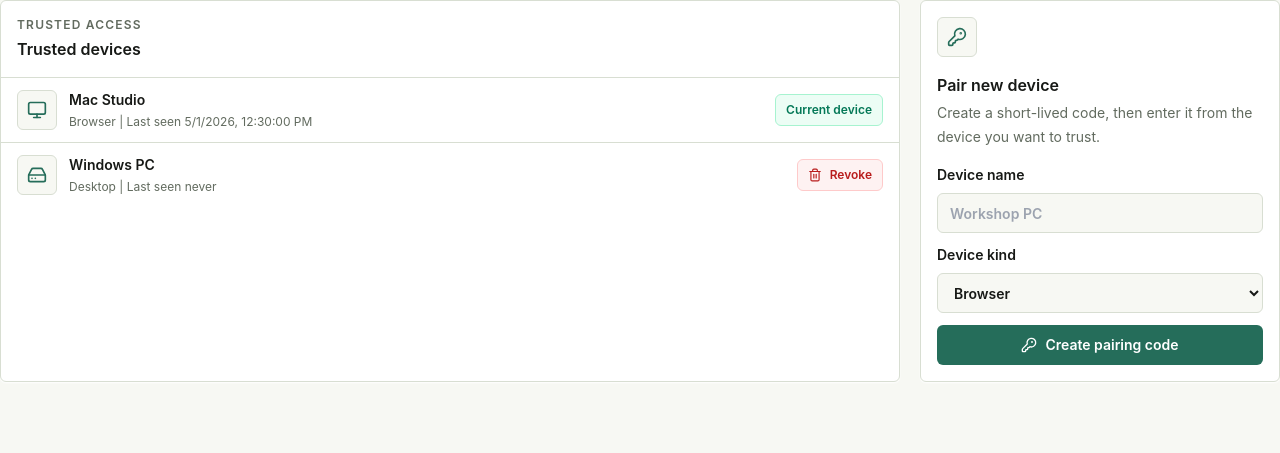
Test: DevicesWorkspace › revokes another trusted device and keeps the current device protected
expect the text "Current device" is shown: met, box [775,94,883,126]
Click the button with aria-label "Revoke Windows PC": x=840, y=175 [797,159,883,191]
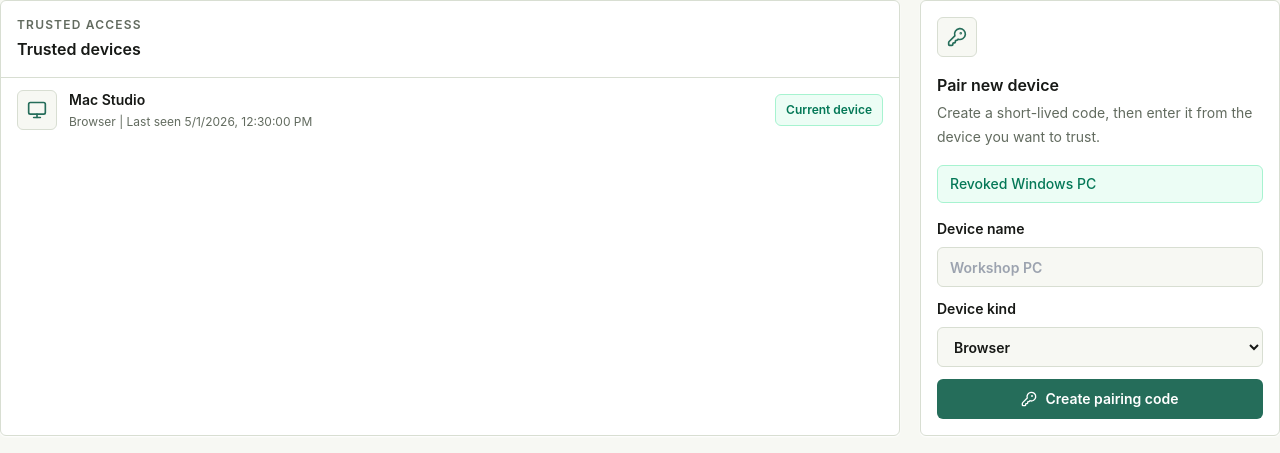
expect the message reads "Revoked Windows PC": met, box [950,175,1096,192]
